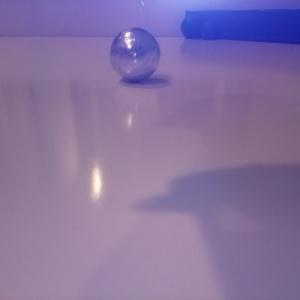alive_ball: (109, 26, 160, 82)
dead_ball: (181, 16, 202, 38), (199, 20, 217, 40)
